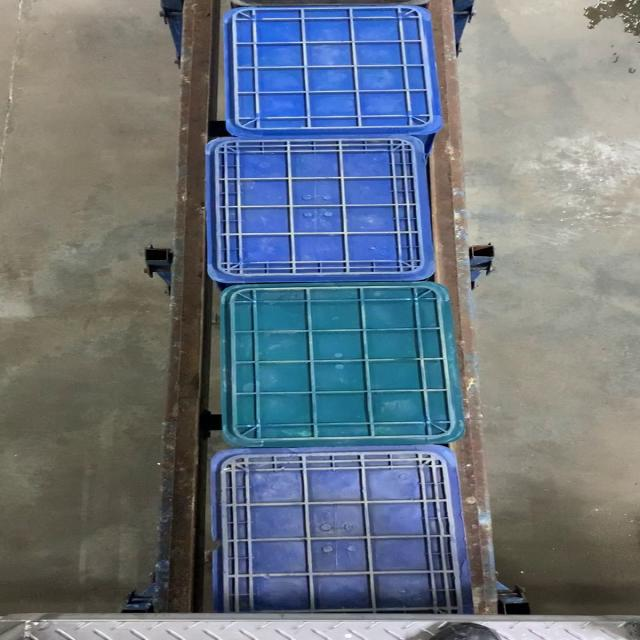Box: (216, 283, 464, 449), (204, 137, 440, 284), (221, 7, 440, 135)
